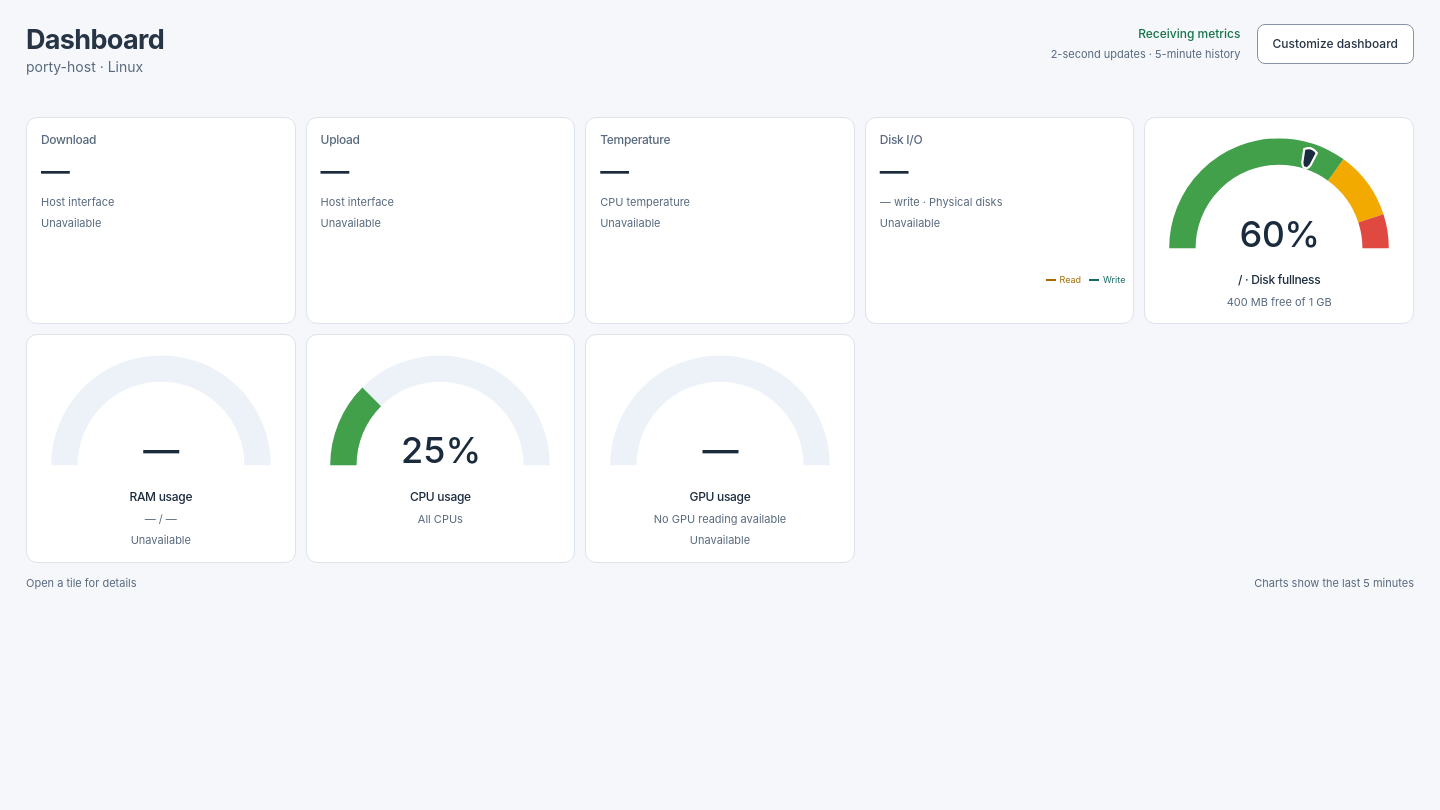
Test: offers compact selectable mount paths with copy controls
Step 1. Click the button named "/ filesystem details" → click(1279, 221), box [1145,118,1413,323]
(page scrolled)
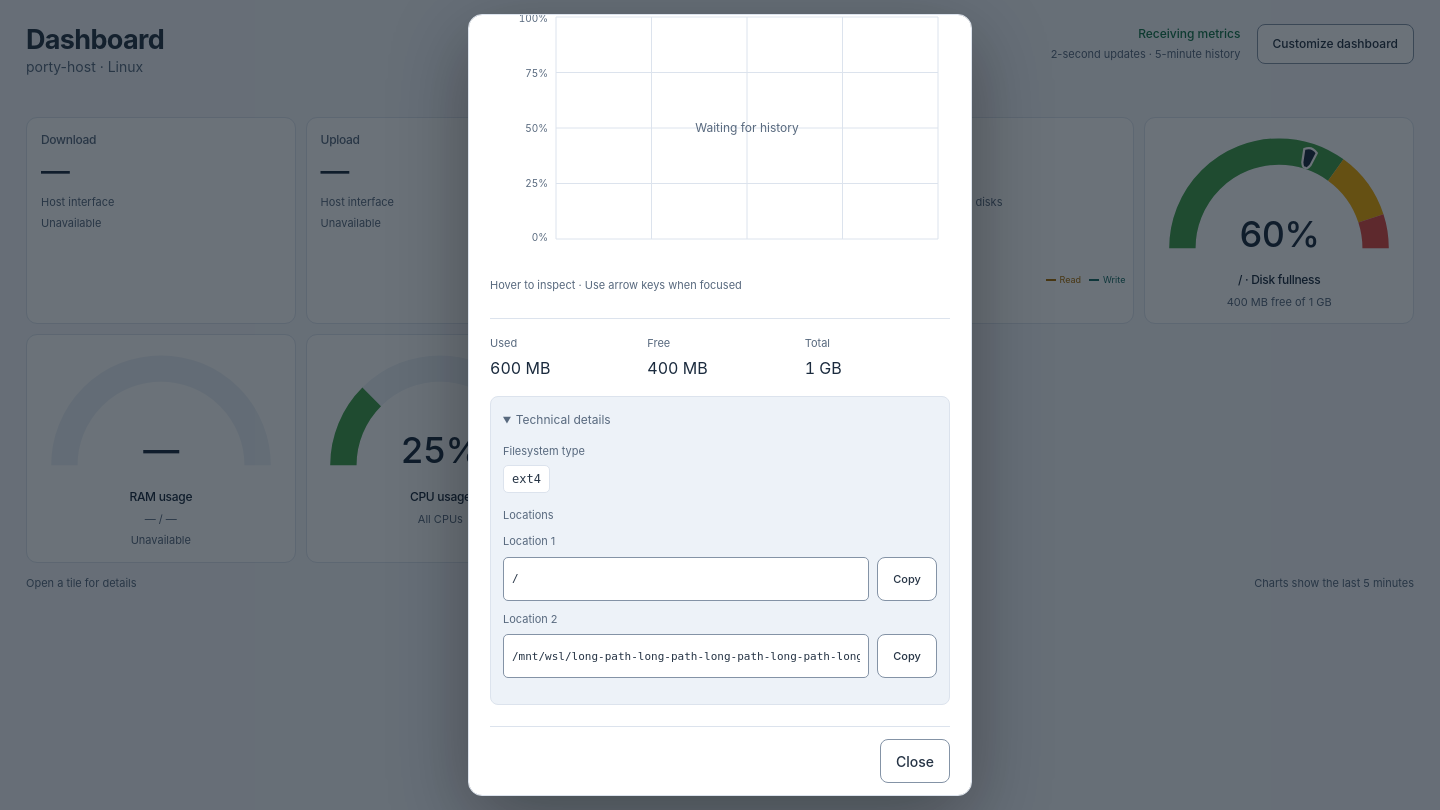
expect the button with aria-label "Copy mount path 2" is shown: met, box [877,634,937,678]
